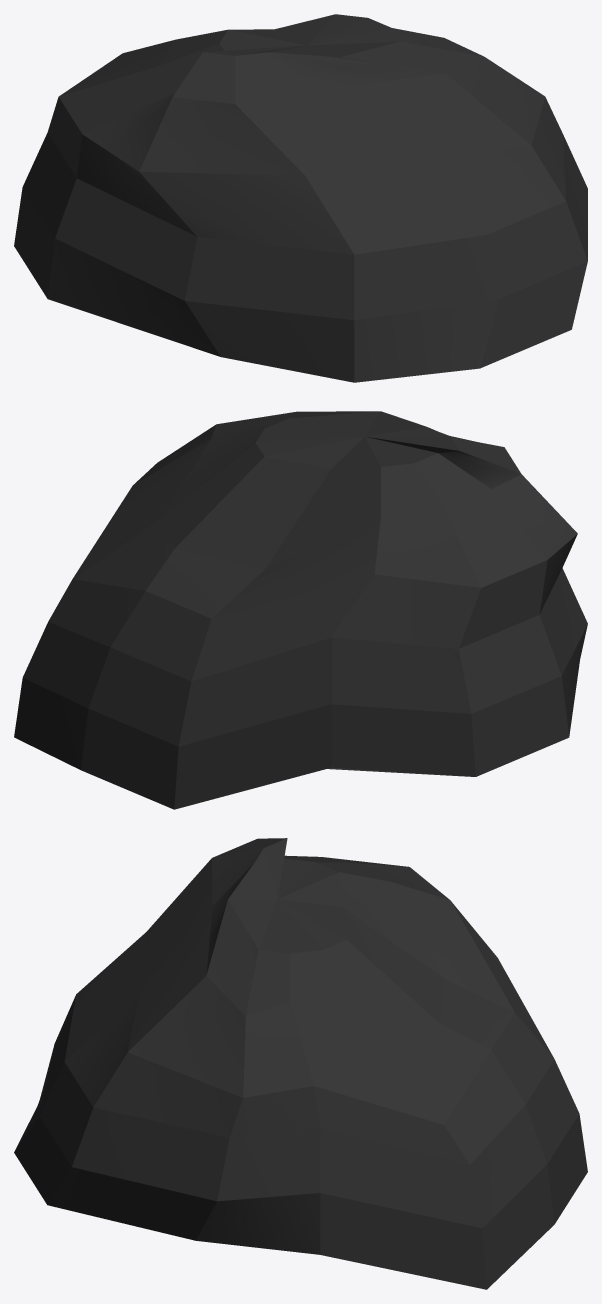
File: rock.obj
3 views of the same model, one above another, from view 1: azimuth 30°, elevation 25°; view 2: azimuth 150°, elevation 25°; view 3: azimuth 270°, elevation 25° (orthographic). The views are drawn at different scales.
Visible parts, largest first — view 1: Rock; view 2: Rock; view 3: Rock.
Part boxes in pixels (bbox=[...]): Rock: bbox=[14, 14, 587, 382]; Rock: bbox=[14, 411, 587, 809]; Rock: bbox=[14, 838, 587, 1289].
Size of the model in its own units: 2.23 by 1.28 by 2.31.
